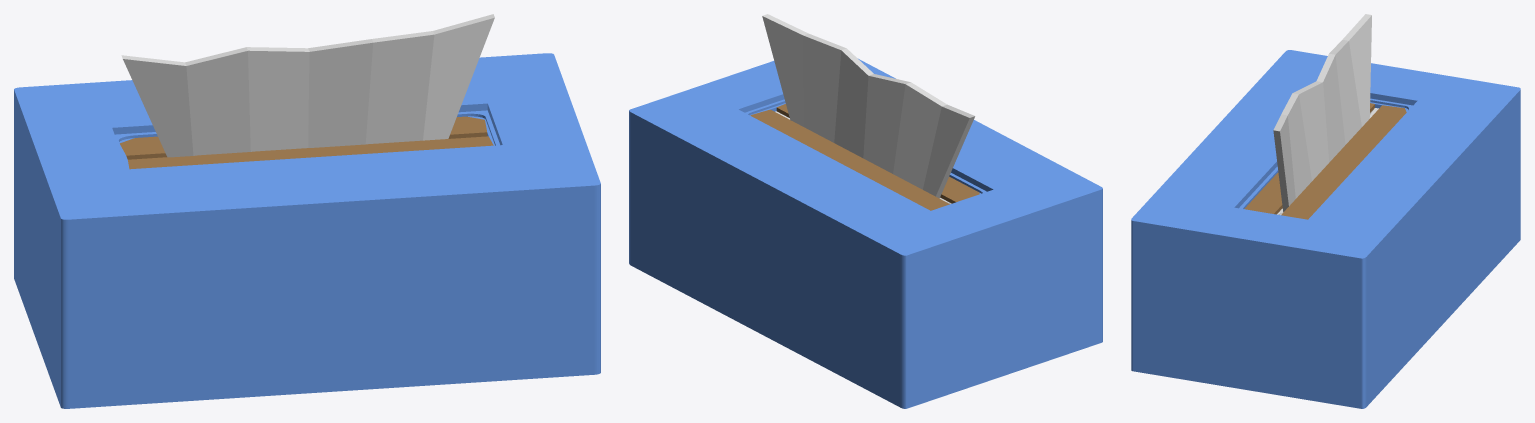
File: TissueBox.fbx
3 renders of one model, left to right at view 1: azimuth 30°, elevation 25°; view 2: azimuth 150°, elevation 25°; view 3: azimuth 270°, elevation 25°, orthographic. The views are drawn at different scales.
Parts seen in each view (by area): view 1: Tissue Box; view 2: Tissue Box; view 3: Tissue Box.
Boxes of the visible parts, x1,y1,x2,y2 form: Tissue Box: (14,14,600,408); Tissue Box: (629,14,1102,408); Tissue Box: (1131,14,1520,408).
Size of the model in its own units: 184 by 96.2 by 145.
